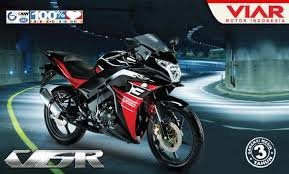motor: (39, 44, 209, 167)
